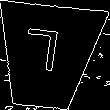L_S: (27, 30, 69, 83)
